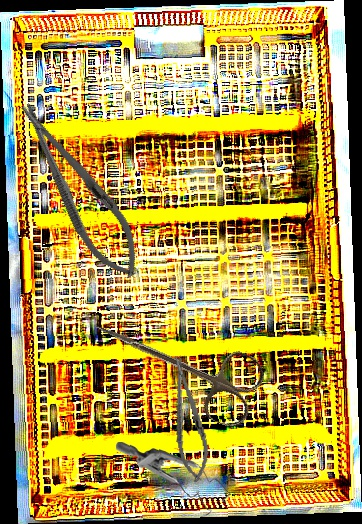Iris Scissors: (79, 295, 270, 433)
Needle Holder: (5, 91, 154, 289), (163, 353, 214, 484)
Speculum: (115, 438, 232, 520)
